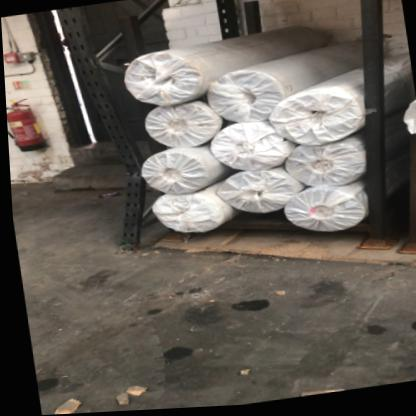vertical_damage: (96, 121, 158, 214)
